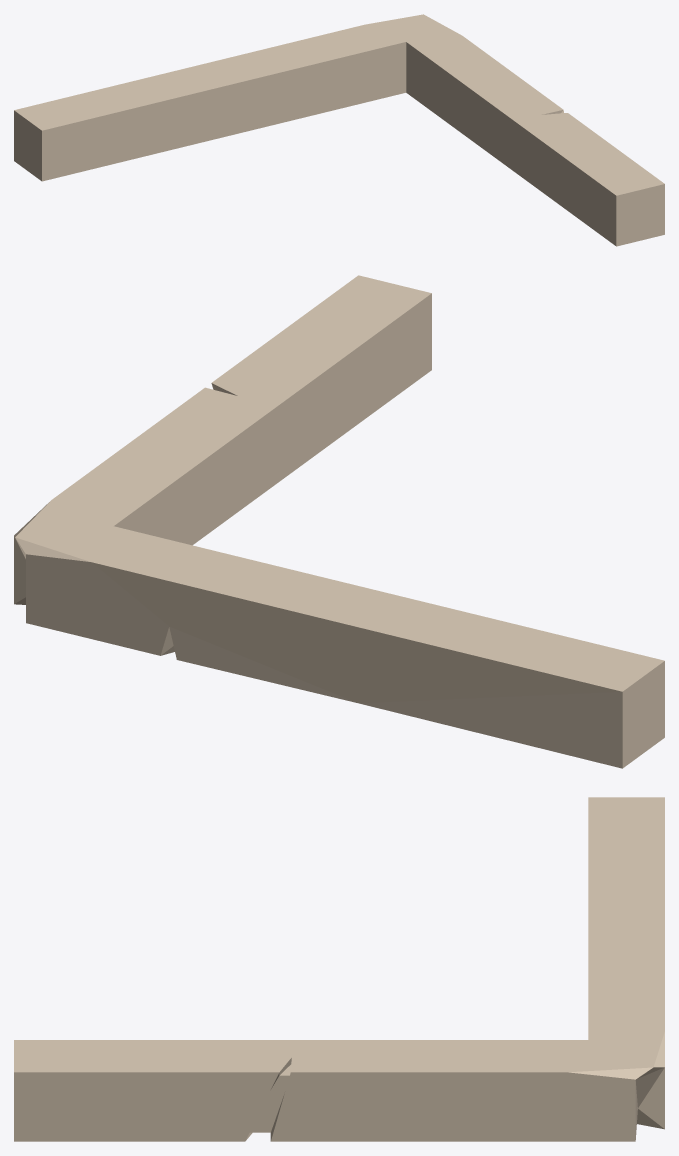
The model's file is Ceiling_Border_Corner_002.fbx.
3 renders of one model, top to bottom at view 1: azimuth 30°, elevation 25°; view 2: azimuth 150°, elevation 25°; view 3: azimuth 270°, elevation 25°, orthographic. The views are drawn at different scales.
Parts seen in each view (by area): view 1: Ceiling_Border_Corner_002; view 2: Ceiling_Border_Corner_002; view 3: Ceiling_Border_Corner_002.
Part boxes in pixels (bbox=[...]): Ceiling_Border_Corner_002: bbox=[14, 14, 664, 246]; Ceiling_Border_Corner_002: bbox=[14, 275, 664, 768]; Ceiling_Border_Corner_002: bbox=[14, 797, 664, 1141].
Bounding box in the file's own units: 3.4 × 0.4 × 3.4.
